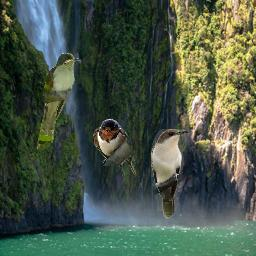Cuckoo: (37, 53, 81, 151), (151, 129, 189, 219)
Swallow: (93, 119, 136, 176)
